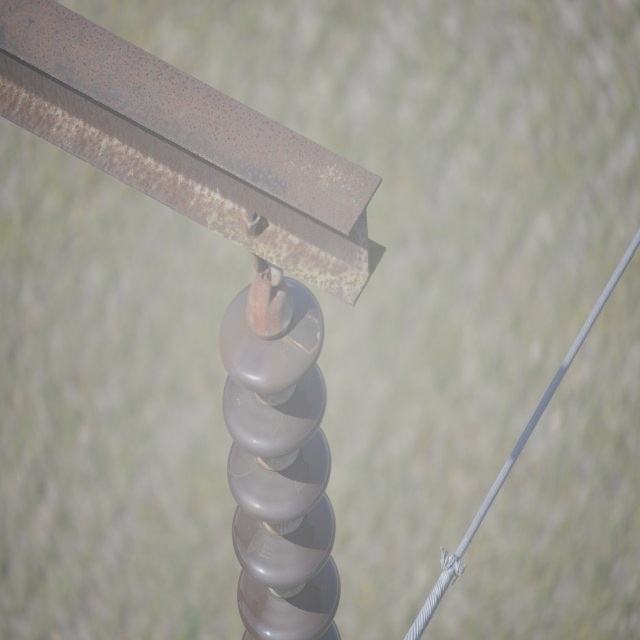insulator: (219, 276, 342, 640)
